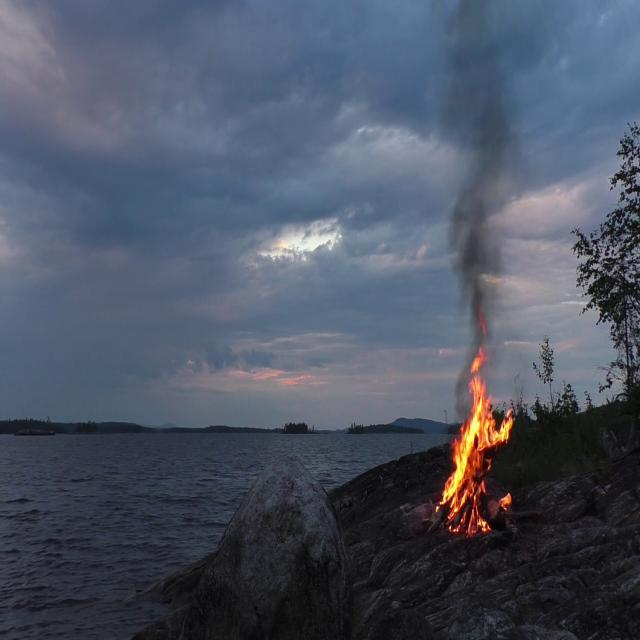Fire: (436, 346, 514, 530)
Smoke: (448, 4, 512, 334)
